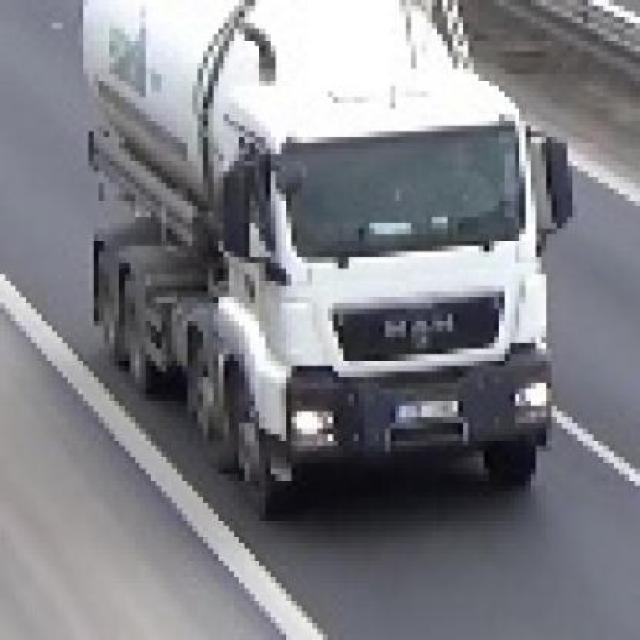truck: (84, 1, 573, 498)
